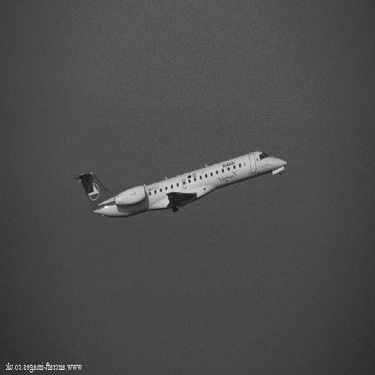airplane: (58, 139, 297, 231)
